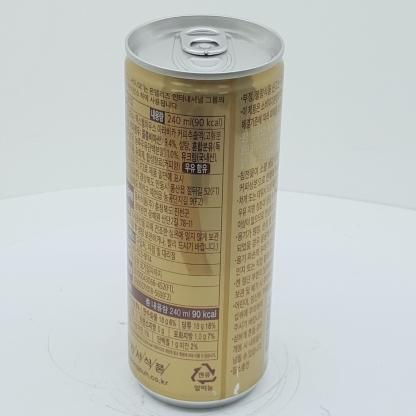-----------------240ML: (124, 14, 284, 409)
